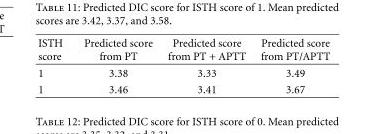table: (37, 36, 329, 95)
table column: (159, 36, 252, 95), (72, 36, 159, 95), (252, 36, 329, 95), (37, 36, 72, 95)
table column header: (37, 36, 329, 64)
table row: (37, 36, 329, 64), (37, 64, 329, 80), (37, 80, 329, 95)
